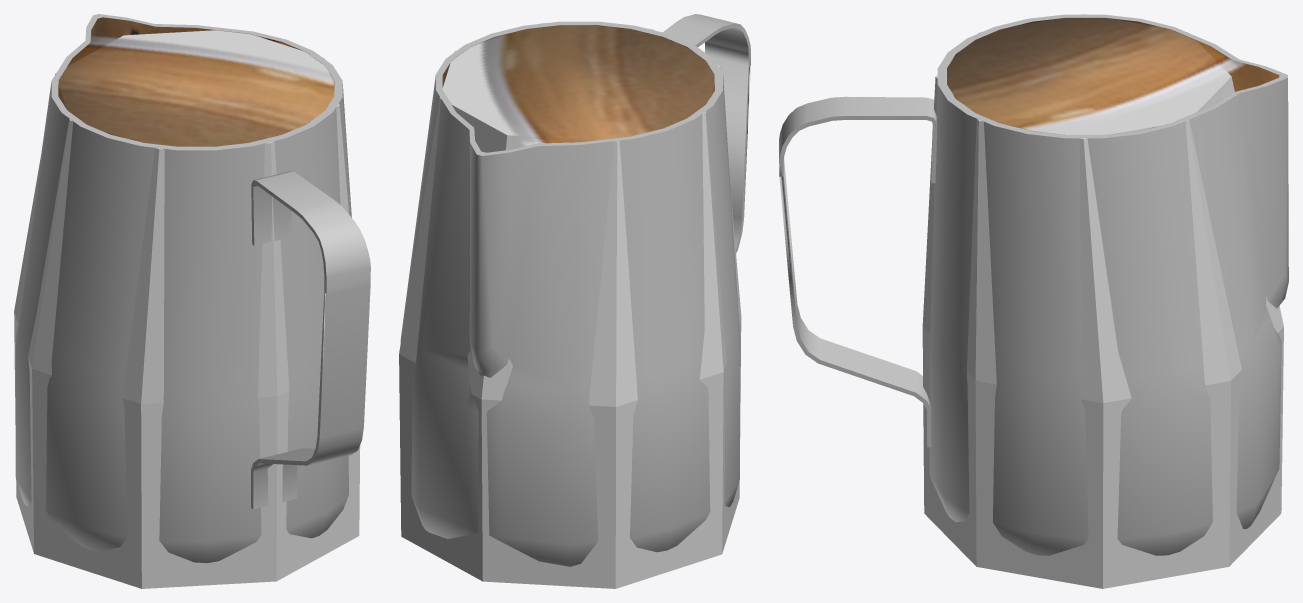
The model's file is Steam Pitcher.fbx.
3 views of the same model, side by side, from view 1: azimuth 30°, elevation 25°; view 2: azimuth 150°, elevation 25°; view 3: azimuth 270°, elevation 25° (orthographic).
Visible parts, largest first — view 1: Steam Pitcher, Col, Content; view 2: Steam Pitcher, Col, Content; view 3: Steam Pitcher, Col, Content.
Part boxes in pixels (left/top/right/bottom): Steam Pitcher: left=15, top=14, right=370, bottom=563; Col: left=14, top=29, right=360, bottom=588; Content: left=58, top=17, right=334, bottom=146; Steam Pitcher: left=400, top=14, right=750, bottom=566; Col: left=399, top=23, right=741, bottom=588; Content: left=442, top=25, right=714, bottom=152; Steam Pitcher: left=779, top=14, right=1288, bottom=555; Col: left=922, top=14, right=1283, bottom=588; Content: left=947, top=18, right=1278, bottom=134.
Size of the model in its own units: 0.0891 by 0.1256 by 0.1189.
